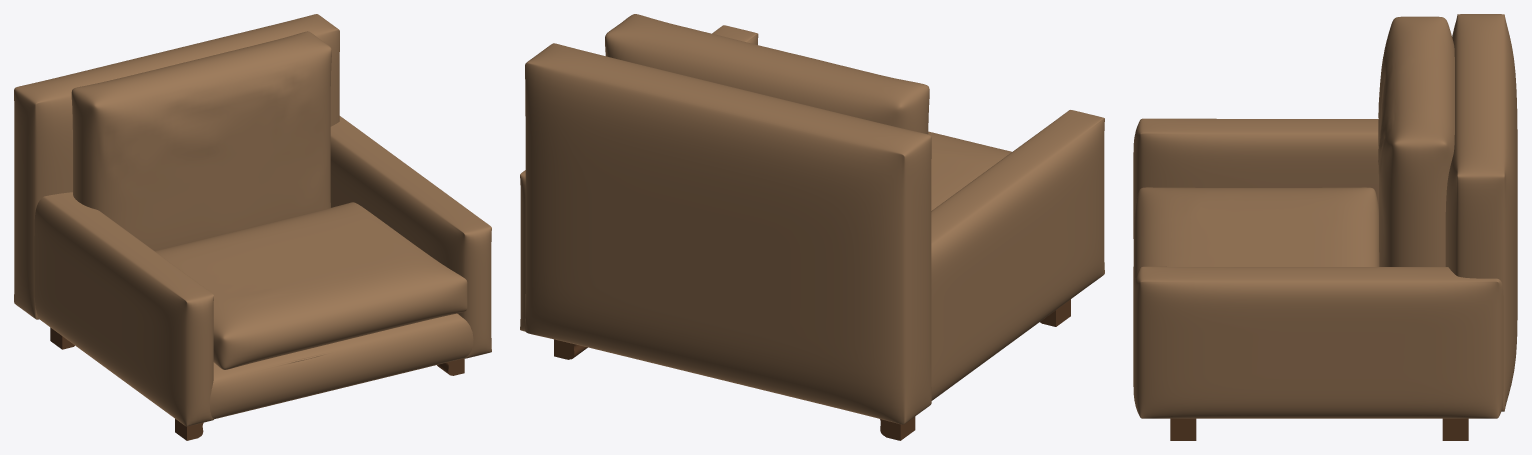
The model's file is fotoliu.fbx.
3 renders of one model, left to right at view 1: azimuth 30°, elevation 25°; view 2: azimuth 150°, elevation 25°; view 3: azimuth 270°, elevation 25°, orthographic. The views are drawn at different scales.
Parts seen in each view (by area): view 1: Cube.008, Cube.002, Cube.003, Cube.001, Cube, Cube.009; view 2: Cube.001, Cube.002, Cube.008, Cube.003, Cube.009; view 3: Cube.002, Cube.003, Cube.001, Cube.008, Cube.009.
Boxes of the visible parts, box(x1,y1,x2,y2) form: Cube.008: box(71, 31, 331, 250); Cube.002: box(34, 116, 491, 426); Cube.003: box(155, 202, 467, 369); Cube.001: box(14, 14, 339, 319); Cube: box(210, 313, 473, 419); Cube.009: box(50, 327, 464, 440); Cube.001: box(525, 43, 931, 424); Cube.002: box(520, 25, 1104, 400); Cube.008: box(605, 14, 929, 134); Cube.003: box(928, 131, 1011, 210); Cube.009: box(554, 299, 1070, 440); Cube.002: box(1133, 118, 1503, 418); Cube.003: box(1133, 187, 1379, 290); Cube.001: box(1445, 14, 1517, 411); Cube.008: box(1378, 16, 1454, 266); Cube.009: box(1170, 418, 1468, 440).
Bounding box in the file's own units: 159 × 124 × 151.
